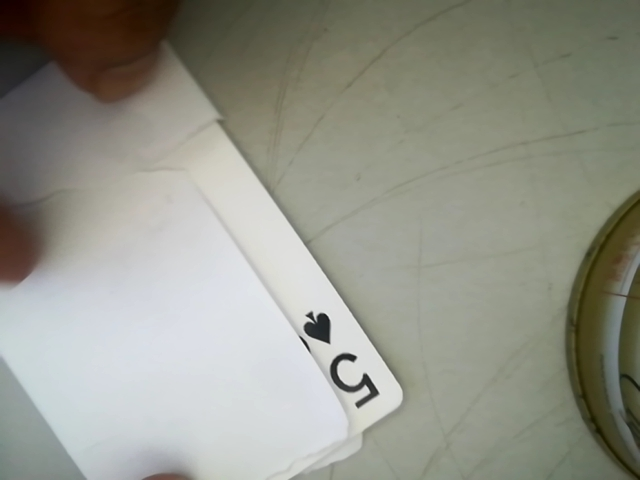ht 5: (289, 296, 384, 421)
